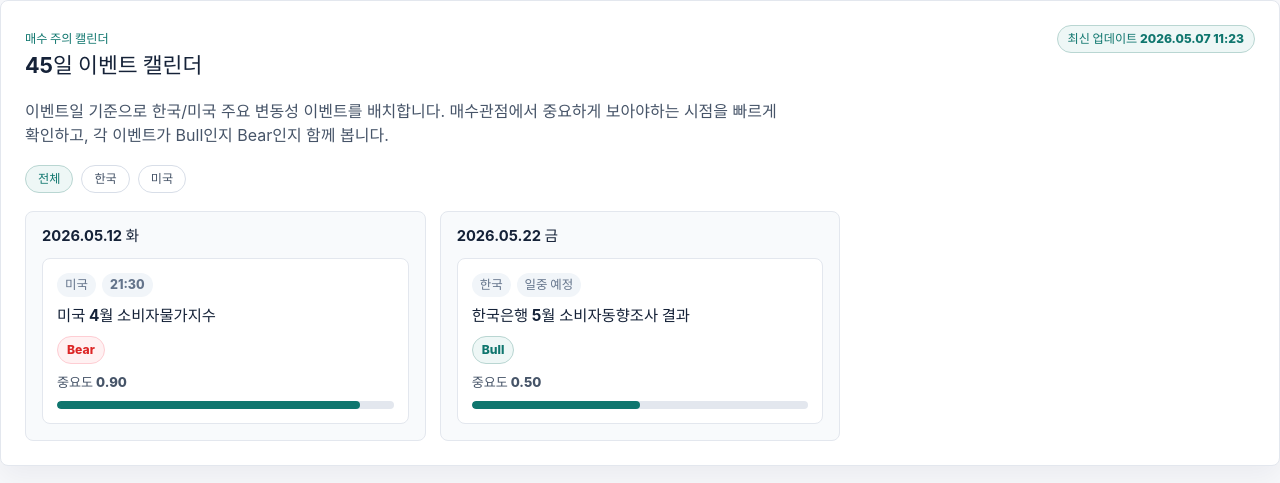
VolatilityCalendarPage › filters events by market
This screenshot has width=1280, height=483.
Expected: the text "미국 4월 소비자물가지수" is shown, [57,306,216,325]
Click the button "한국": click(106, 179) [81,165,130,193]
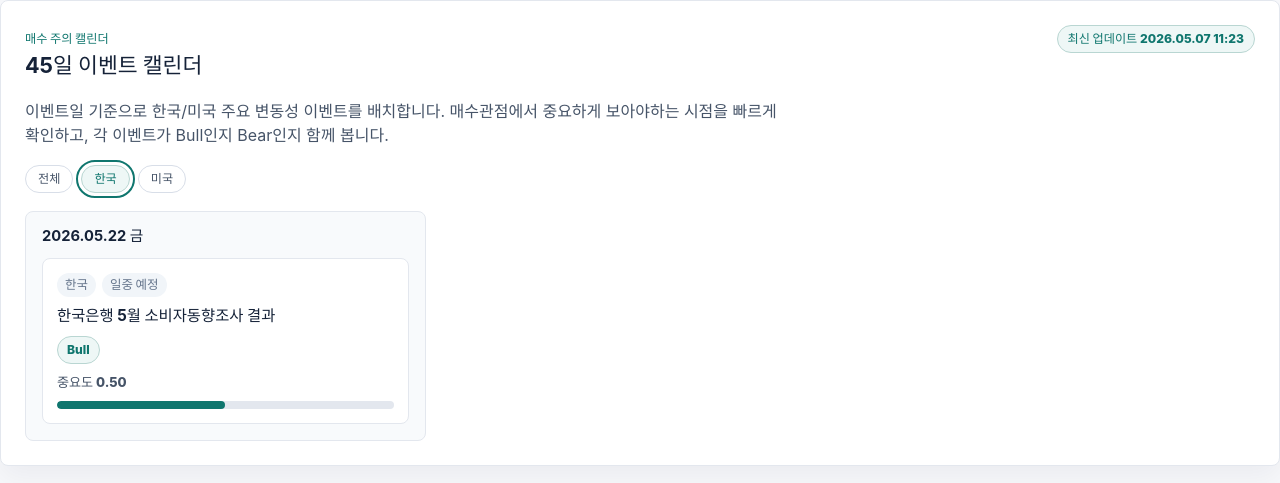
Expected: the text "한국은행 5월 소비자동향조사 결과" is shown, [57,306,275,325]
Expected: the button "미국 4월 소비자물가지수" is gone
Click the button "미국": click(162, 179) [138,165,186,193]
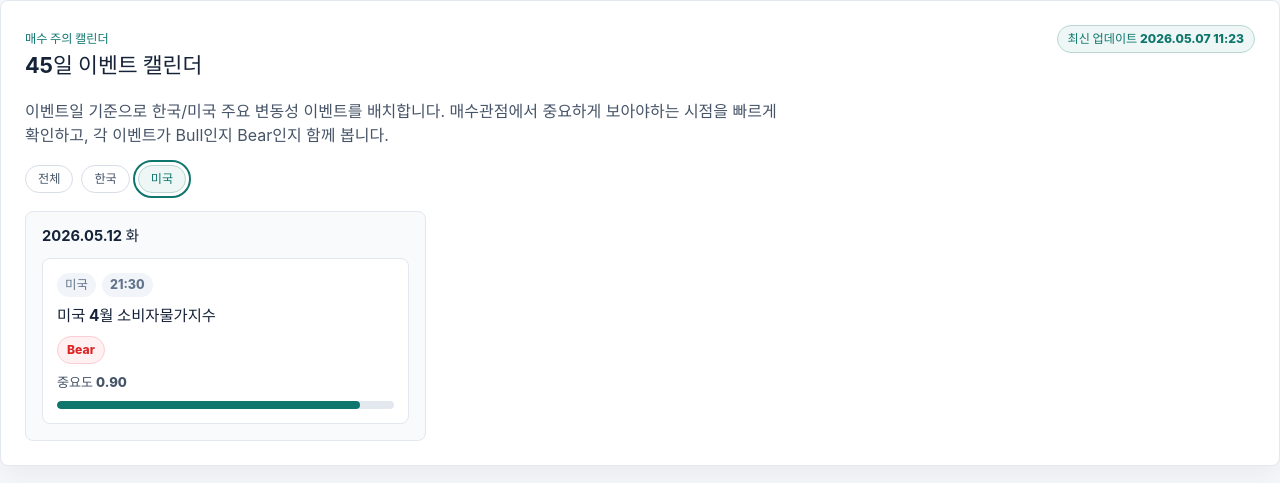
Expected: the text "미국 4월 소비자물가지수" is shown, [57,306,216,325]
Expected: the button "한국은행 5월 소비자동향조사 결과" is gone
